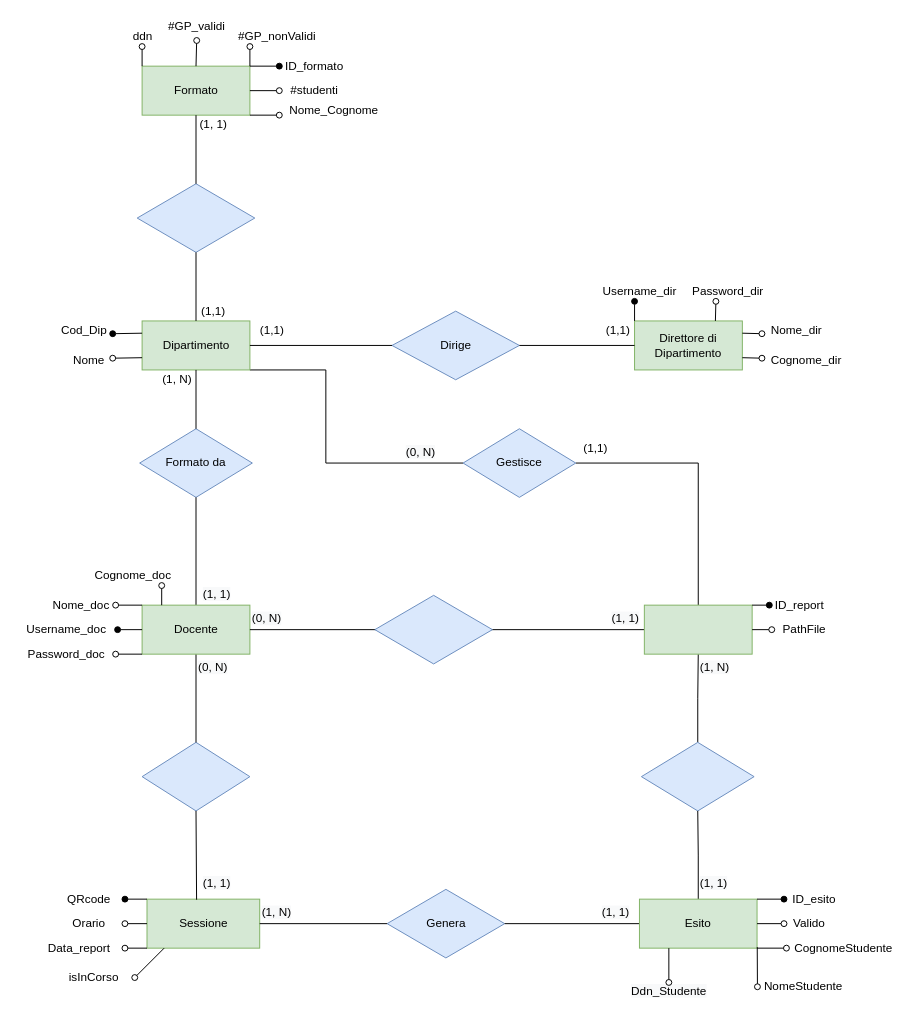
Some shapes in this 918 by 1023 pixel diagram are drawn without their labels. The shapes that lost their labels are listed below. From the top down, each one's centre as x and y in pixels, then its label:
At pixel 195 217: "Impiega".
At pixel 433 629: "Produce".
At pixel 697 629: "Report".
At pixel 195 776: "Esegue".
At pixel 697 776: "Contiene".
